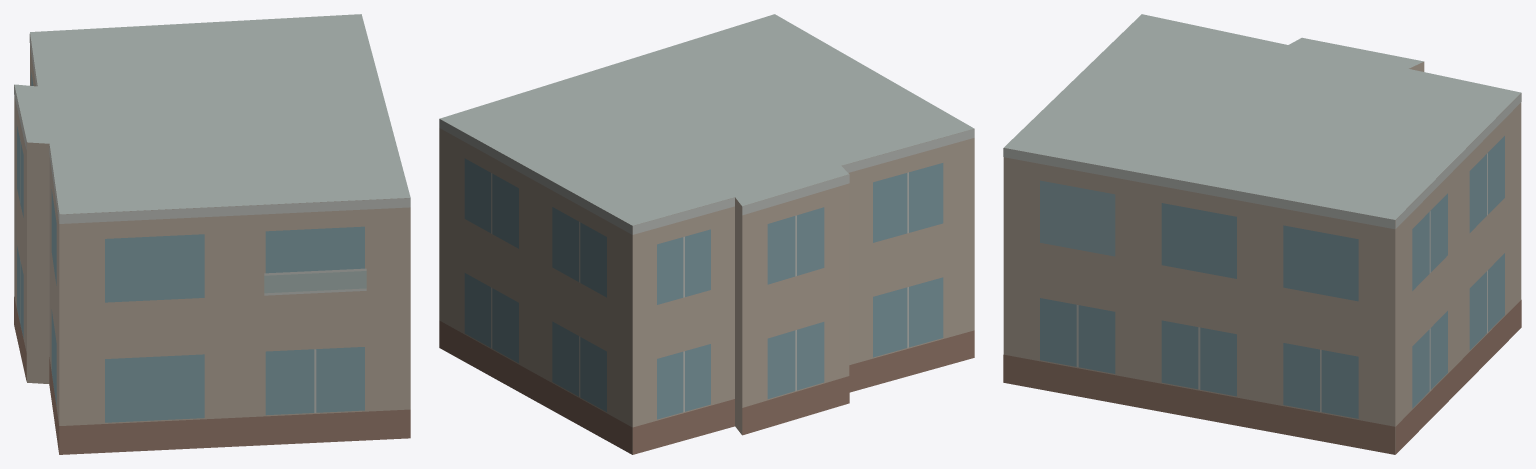
The model's file is survey-upis-32530691.glb.
3 renders of one model, left to right at view 1: azimuth 30°, elevation 25°; view 2: azimuth 150°, elevation 25°; view 3: azimuth 270°, elevation 25°, orthographic. The views are drawn at different scales.
Parts seen in each view (by area): view 1: survey-upis-32530691.tmp; view 2: survey-upis-32530691.tmp; view 3: survey-upis-32530691.tmp.
Part boxes in pixels (left/top/right/bottom): survey-upis-32530691.tmp: left=14, top=14, right=410, bottom=454; survey-upis-32530691.tmp: left=439, top=14, right=974, bottom=454; survey-upis-32530691.tmp: left=1003, top=14, right=1521, bottom=454.
Bounding box in the file's own units: 11.48 × 6.1 × 12.2.
